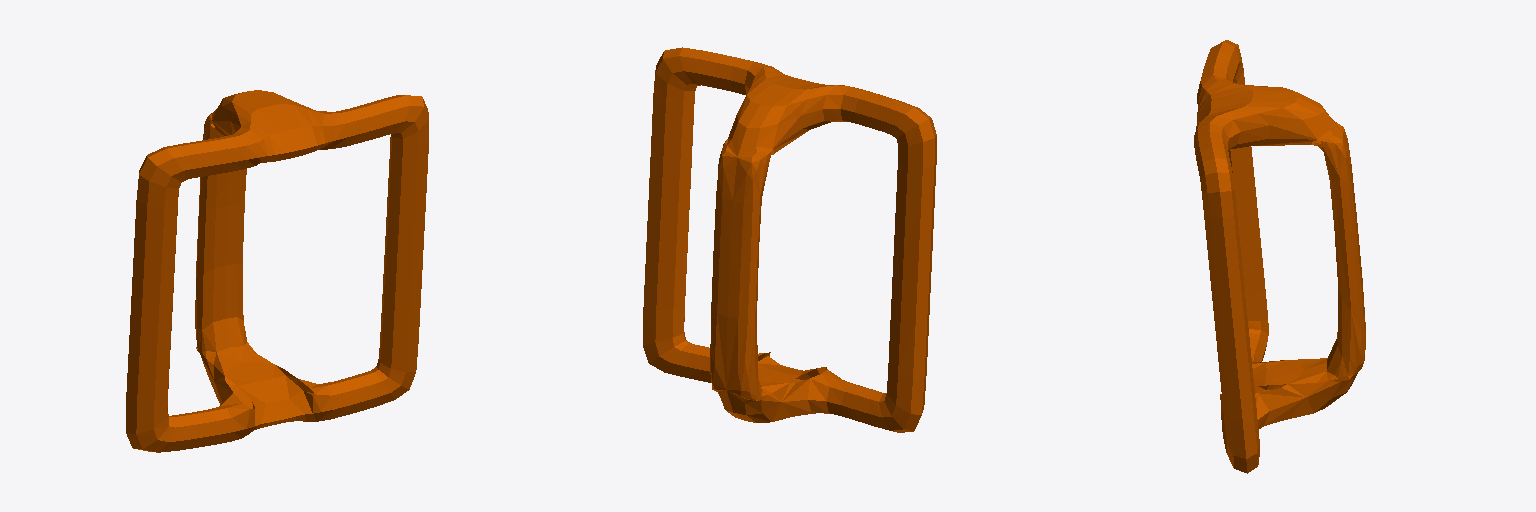
Rendered from buckle.obj.
3 renders of one model, left to right at view 1: azimuth 30°, elevation 25°; view 2: azimuth 150°, elevation 25°; view 3: azimuth 270°, elevation 25°, orthographic.
Parts seen in each view (by area): view 1: Buckle_Plane.005; view 2: Buckle_Plane.005; view 3: Buckle_Plane.005.
Part boxes in pixels (left/top/right/bottom): Buckle_Plane.005: left=126, top=90, right=428, bottom=452; Buckle_Plane.005: left=643, top=47, right=936, bottom=432; Buckle_Plane.005: left=1194, top=40, right=1365, bottom=473.
Size of the model in its own units: 0.0389 by 0.0415 by 0.0202.